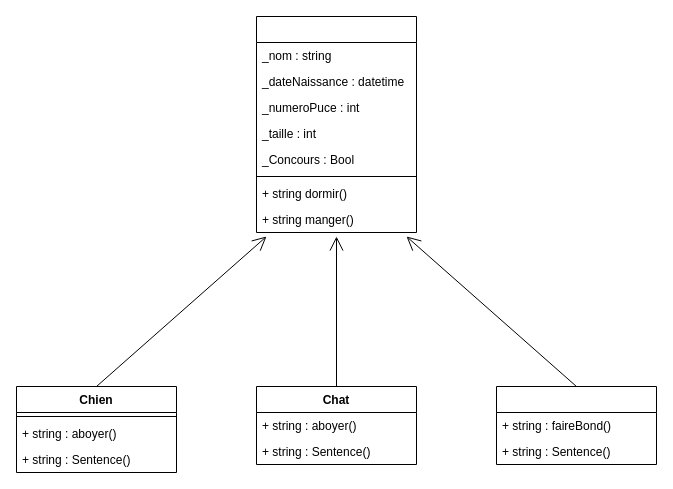
Image size: 673x489. Some labels were removed from this diagram. Here are the shapes that lost their labels. From the top down, the box of each, then its label:
(256, 16, 416, 232): Animal
(496, 386, 656, 464): Lapin
